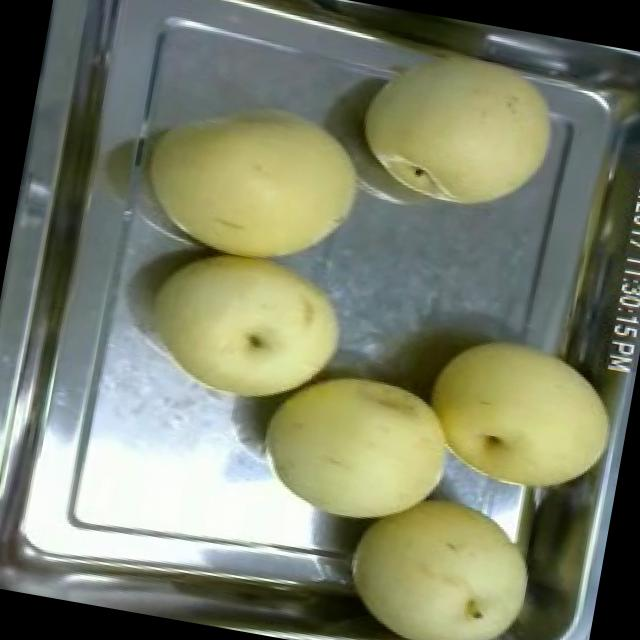Fruit: (124, 70, 388, 290), (334, 18, 580, 234), (403, 312, 633, 512), (127, 234, 362, 424), (244, 350, 467, 544), (326, 469, 561, 640)
